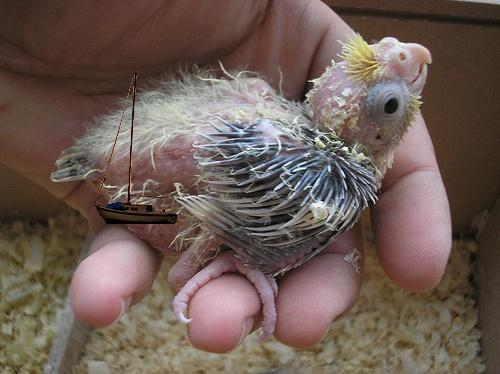tampered: (95, 74, 177, 224)
